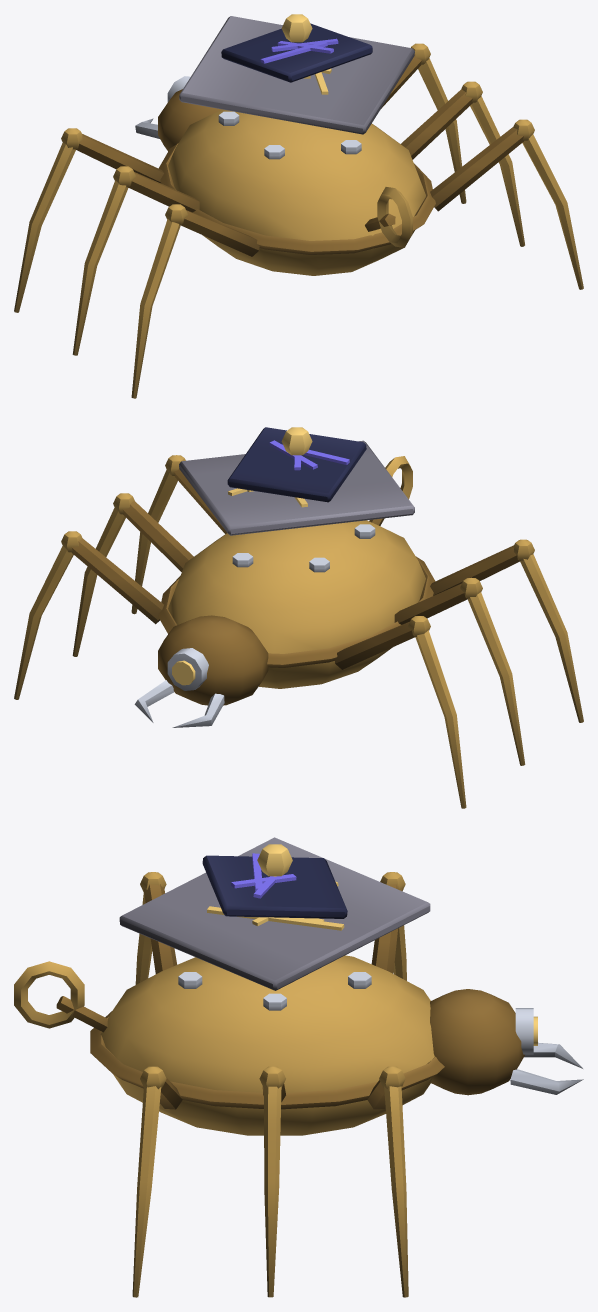
Rendered from mob_rune_mite.fbx.
3 views of the same model, one above another, from view 1: azimuth 30°, elevation 25°; view 2: azimuth 150°, elevation 25°; view 3: azimuth 270°, elevation 25° (orthographic). The views are drawn at different scales.
Visible parts, largest first — view 1: Body, ExtraShell, Knee-1_2, Knee-1_3, Knee-1_1, Leg1_3, Knee1_3, Head, Knee1_2, Leg1_2, ExtraKey, Knee1_1 (+5 smaller); view 2: Body, ExtraShell, Head, Knee-1_2, Knee-1_1, Knee-1_3, Leg1_1, Knee1_1, Knee1_2, Leg1_2, Knee1_3, Leg-1_1 (+7 smaller); view 3: Body, ExtraShell, Head, Knee1_1, Knee1_2, Knee1_3, ExtraKey, ExtraShell_Glow_Star, Knee-1_3, JawR, Leg-1_3, Leg-1_1 (+3 smaller).
Part boxes in pixels (x1=…): Body: x1=158, y1=109, x2=435, y2=275; ExtraShell: x1=179, y1=16, x2=414, y2=134; Knee-1_2: x1=72, y1=166, x2=135, y2=355; Knee-1_3: x1=131, y1=204, x2=187, y2=398; Knee-1_1: x1=14, y1=128, x2=82, y2=312; Leg1_3: x1=430, y1=127, x2=523, y2=211; Knee1_3: x1=513, y1=119, x2=583, y2=289; Head: x1=158, y1=76, x2=222, y2=151; Knee1_2: x1=461, y1=81, x2=524, y2=246; Leg1_2: x1=401, y1=89, x2=472, y2=159; ExtraKey: x1=365, y1=187, x2=412, y2=247; Knee1_1: x1=411, y1=43, x2=466, y2=203; Body: x1=158, y1=520, x2=435, y2=688; ExtraShell: x1=179, y1=427, x2=414, y2=535; Head: x1=158, y1=615, x2=268, y2=705; Knee-1_2: x1=460, y1=577, x2=525, y2=765; Knee-1_1: x1=408, y1=616, x2=466, y2=808; Knee-1_3: x1=513, y1=539, x2=583, y2=722; Leg1_1: x1=71, y1=539, x2=163, y2=624; Knee1_1: x1=14, y1=531, x2=82, y2=699; Knee1_2: x1=72, y1=493, x2=134, y2=656; Leg1_2: x1=122, y1=500, x2=193, y2=571; Knee1_3: x1=131, y1=455, x2=185, y2=614; Leg-1_1: x1=334, y1=621, x2=414, y2=669; Body: x1=90, y1=955, x2=444, y2=1135; ExtraShell: x1=119, y1=837, x2=430, y2=990; Head: x1=430, y1=989, x2=533, y2=1095; Knee1_1: x1=379, y1=1066, x2=408, y2=1297; Knee1_2: x1=259, y1=1066, x2=285, y2=1297; Knee1_3: x1=132, y1=1066, x2=166, y2=1297; ExtraKey: x1=14, y1=961, x2=107, y2=1032; ExtraShell_Glow_Star: x1=207, y1=844, x2=344, y2=930; Knee-1_3: x1=135, y1=872, x2=166, y2=984; JawR: x1=510, y1=1069, x2=583, y2=1094; Leg-1_3: x1=143, y1=884, x2=177, y2=973; Leg-1_1: x1=371, y1=884, x2=402, y2=973.
Bounding box in the file's own units: 404 × 243 × 384.
3 materials, 1 textured.
